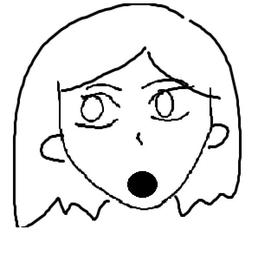ear: (27, 128, 73, 166), (200, 120, 231, 150)
eye: (74, 90, 124, 139), (147, 85, 192, 127)
eyebrow: (86, 79, 123, 93), (136, 77, 175, 89)
pointy_nose: (122, 165, 158, 205), (131, 128, 149, 151)
